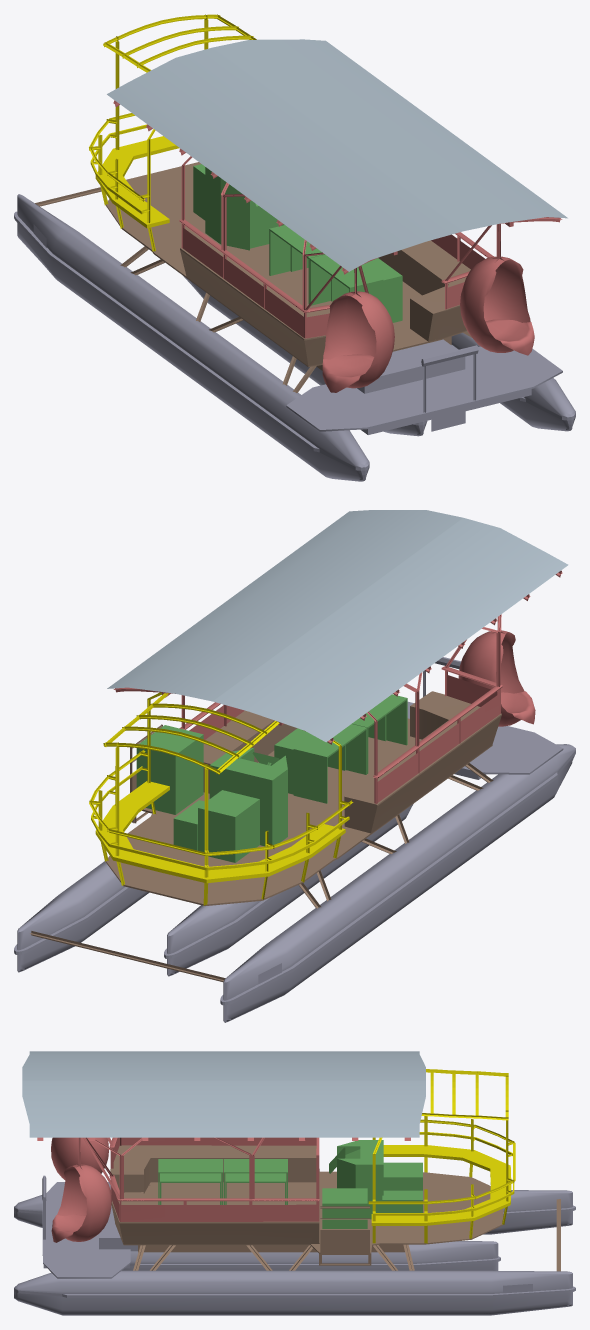
Rendered from Solarschiff_Final_DSTestSeperate.fbx.
3 renders of one model, top to bottom at view 1: azimuth 30°, elevation 25°; view 2: azimuth 150°, elevation 25°; view 3: azimuth 270°, elevation 25°, orthographic. The views are drawn at different scales.
Parts seen in each view (by area): view 1: polySurface222, polySurface217, polySurface221, polySurface218, polySurface220, polySurface219; view 2: polySurface222, polySurface217, polySurface218, polySurface220, polySurface219, polySurface221; view 3: polySurface217, polySurface222, polySurface218, polySurface221, polySurface220, polySurface219.
Boxes of the visible parts, bbox=[...] form: polySurface222: bbox=[107, 39, 567, 271]; polySurface217: bbox=[14, 194, 575, 481]; polySurface221: bbox=[113, 100, 562, 392]; polySurface218: bbox=[35, 162, 471, 392]; polySurface220: bbox=[193, 164, 402, 322]; polySurface219: bbox=[89, 14, 256, 251]; polySurface222: bbox=[107, 510, 568, 742]; polySurface217: bbox=[14, 657, 575, 1022]; polySurface218: bbox=[30, 691, 501, 981]; polySurface220: bbox=[136, 694, 407, 862]; polySurface219: bbox=[89, 692, 353, 905]; polySurface221: bbox=[113, 570, 562, 803]; polySurface217: bbox=[14, 1175, 575, 1315]; polySurface222: bbox=[22, 1051, 425, 1137]; polySurface218: bbox=[110, 1145, 560, 1271]; polySurface221: bbox=[37, 1137, 410, 1242]; polySurface220: bbox=[158, 1140, 422, 1228]; polySurface219: bbox=[368, 1069, 515, 1243].
Bounding box in the file's own units: 15.56 × 15.41 × 38.6.
